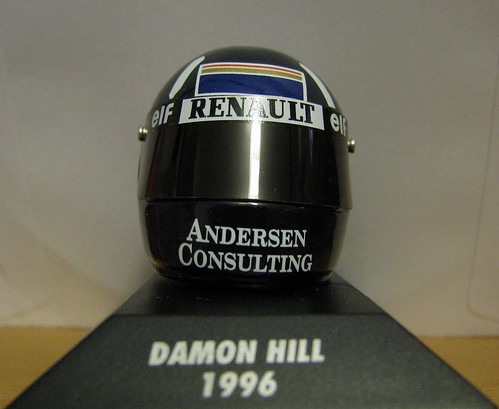helmet: (135, 30, 356, 286)
